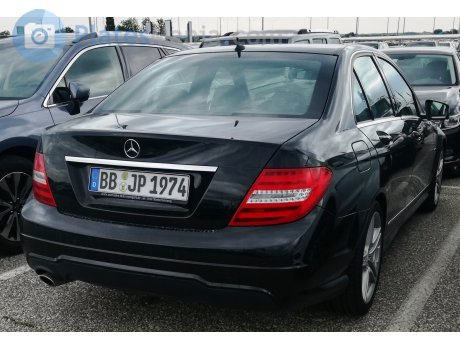License Plates: (101, 170, 184, 197)
